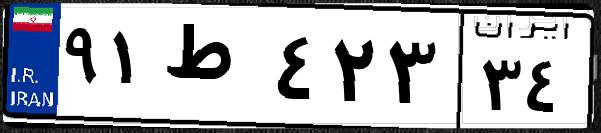1: (110, 28, 158, 98)
2: (330, 28, 385, 110)
3: (385, 28, 445, 110), (475, 38, 525, 113)
4: (270, 28, 330, 110), (525, 38, 570, 115)
9: (57, 26, 110, 100)
ط: (158, 20, 270, 120)
